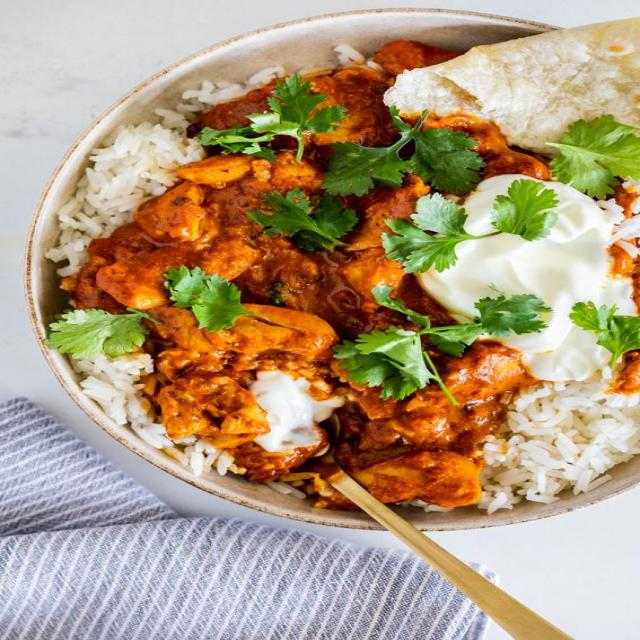chicken: (164, 93, 505, 504)
rice: (516, 374, 640, 509), (60, 136, 166, 220)
roti: (395, 24, 640, 144)
